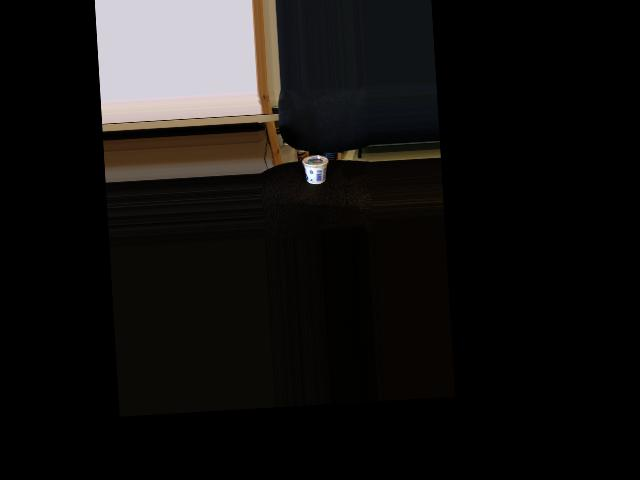cotage: (302, 153, 329, 187)
